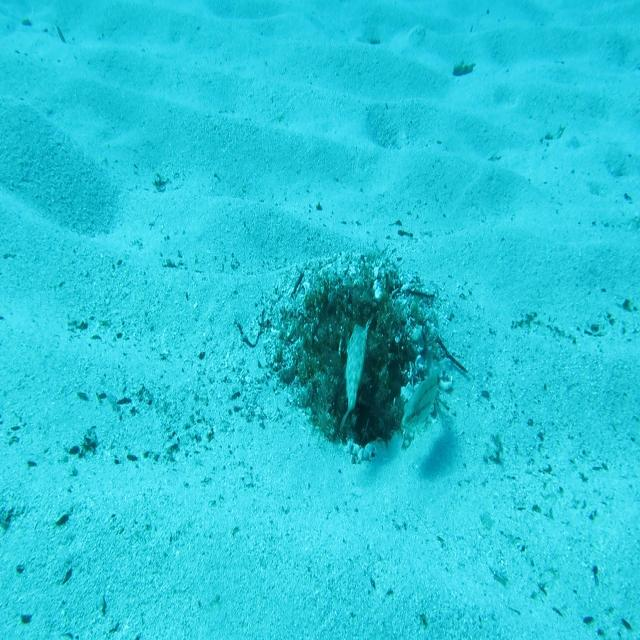ROLL: (339, 311, 376, 437)
core_nest: (330, 299, 376, 349)
female: (393, 343, 440, 437)
nest: (253, 237, 459, 486)
vegetation: (450, 59, 477, 77)
